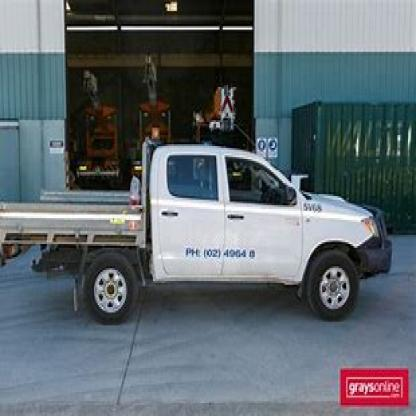light_vehicle: (3, 137, 409, 342)
